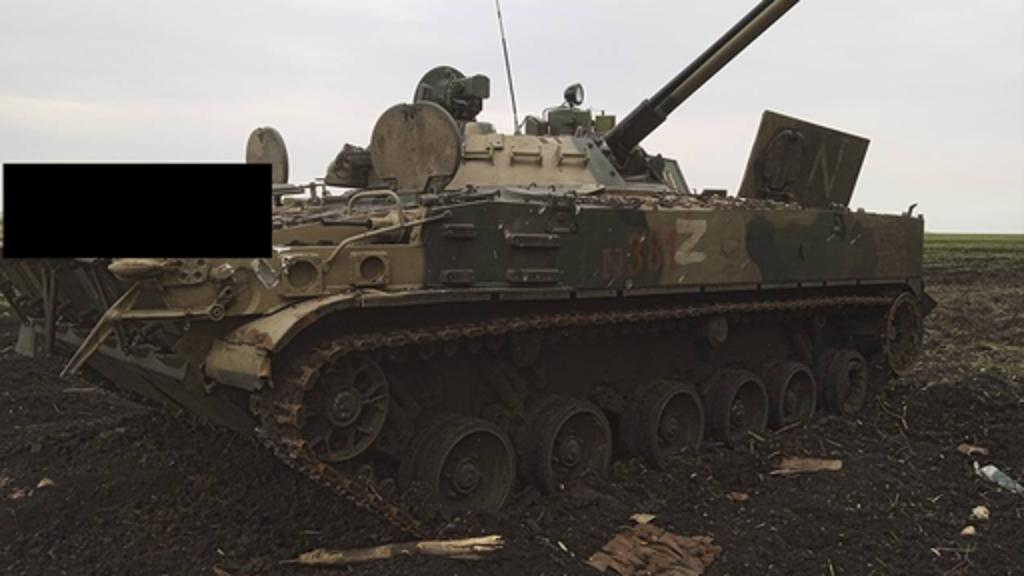APC-IFV: (4, 4, 938, 548)
